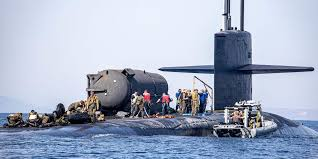Submarine: (1, 0, 317, 139)
